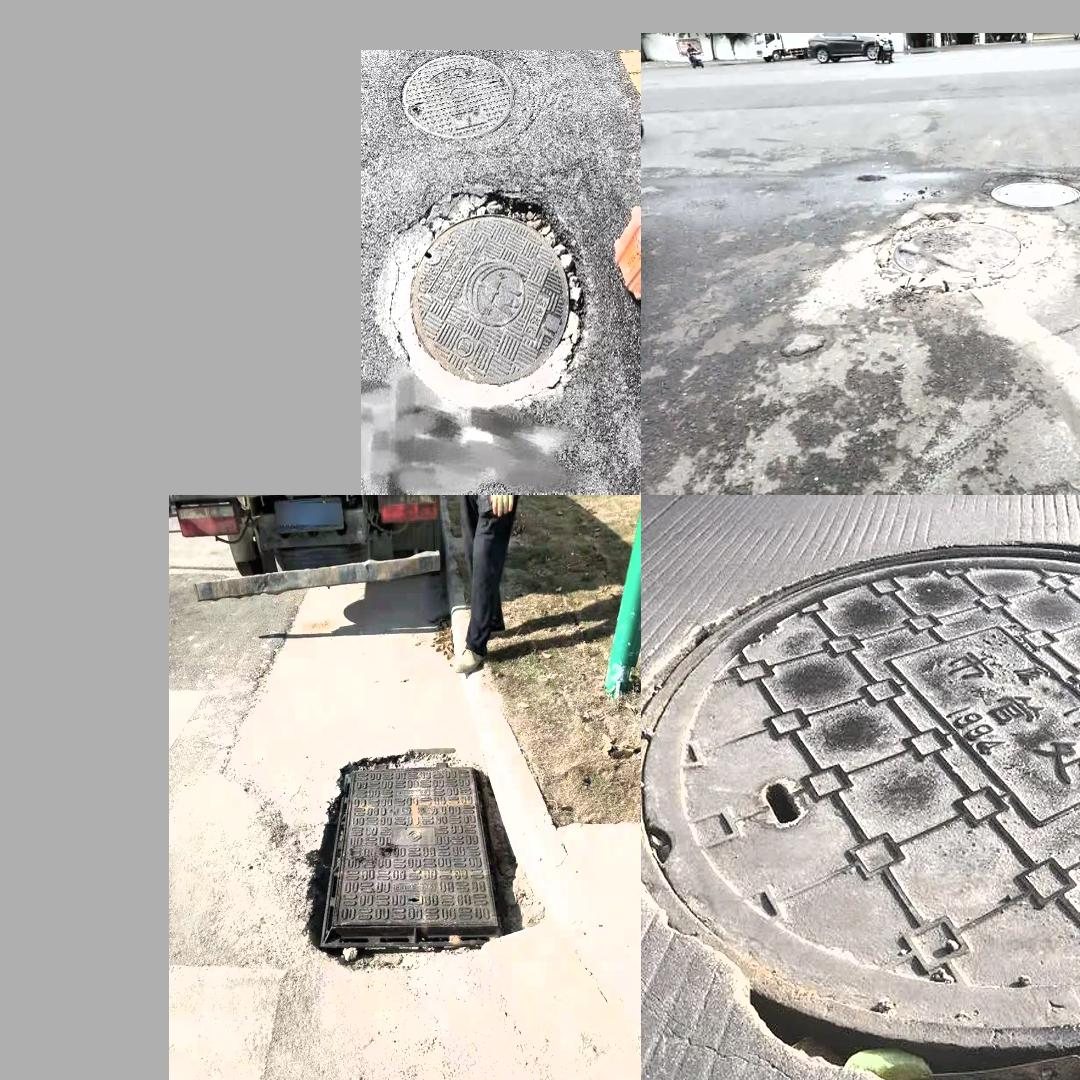circle: (661, 538, 1080, 1080), (378, 192, 585, 417), (306, 756, 526, 963), (828, 203, 1050, 333)
good: (398, 54, 516, 140)
